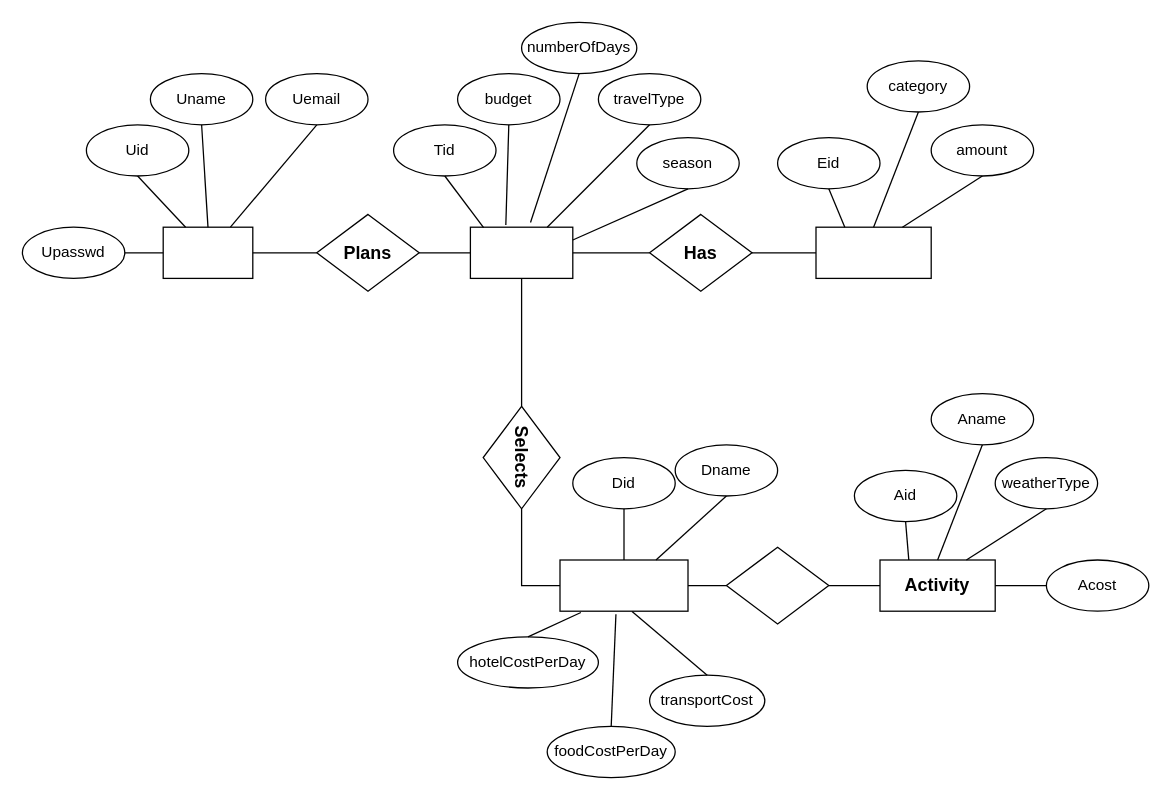
Some shapes in this 1171 by 800 pixel diagram are drawn without their labels. Here are the shapes that lost their labels. From the top down, the box of each, then its label:
(162, 226, 253, 278): User
(469, 226, 573, 278): Trip
(815, 226, 931, 278): Expense
(559, 559, 688, 611): Destination
(725, 546, 829, 624): Offers
